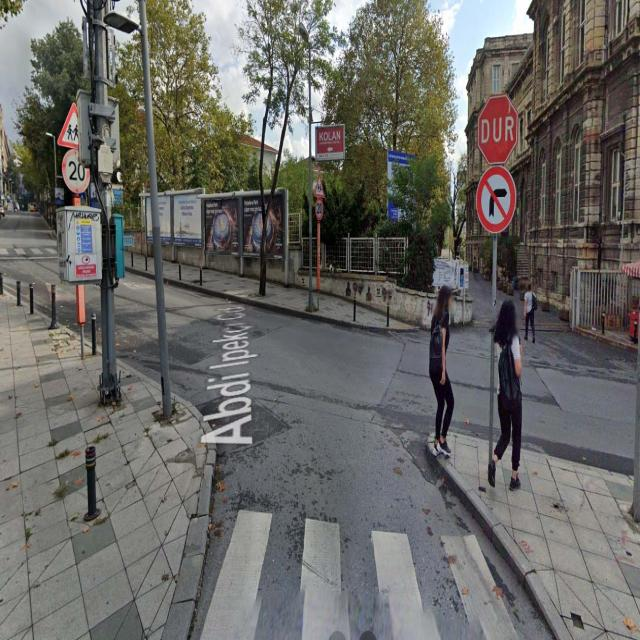20: (61, 148, 91, 192), (315, 198, 323, 220)
dur: (479, 94, 518, 165)
sagadonulmez: (476, 165, 517, 232)
